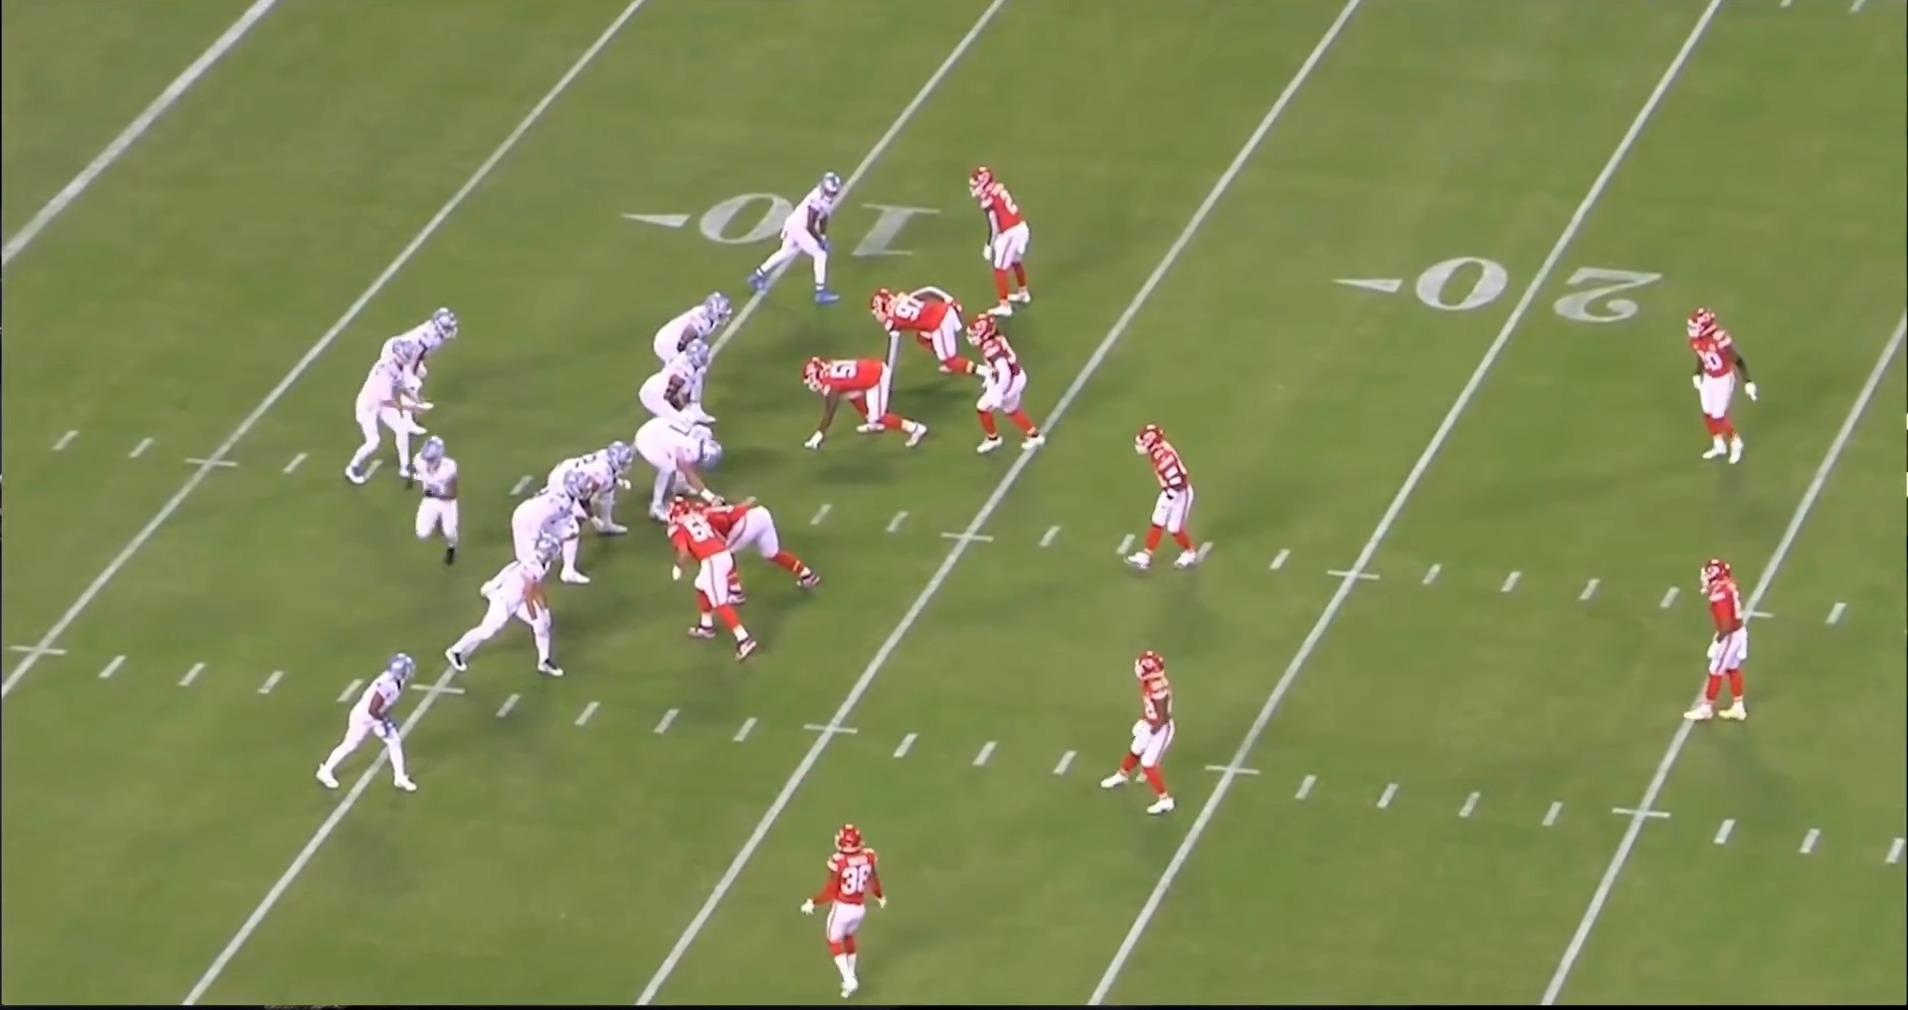defense: (664, 496, 762, 662), (687, 493, 829, 598), (810, 816, 892, 993), (1096, 642, 1178, 816), (1683, 557, 1760, 732), (794, 351, 930, 450), (1684, 307, 1758, 476), (872, 283, 996, 382), (1126, 419, 1204, 576), (966, 311, 1049, 457), (970, 158, 1042, 318)
oline: (482, 462, 591, 599), (658, 286, 744, 419), (640, 407, 735, 524), (538, 441, 628, 556), (638, 340, 720, 429)
qb: (342, 349, 429, 497)
skill: (441, 536, 569, 682), (306, 647, 423, 800), (745, 166, 853, 304), (409, 432, 475, 575), (387, 305, 456, 427)
